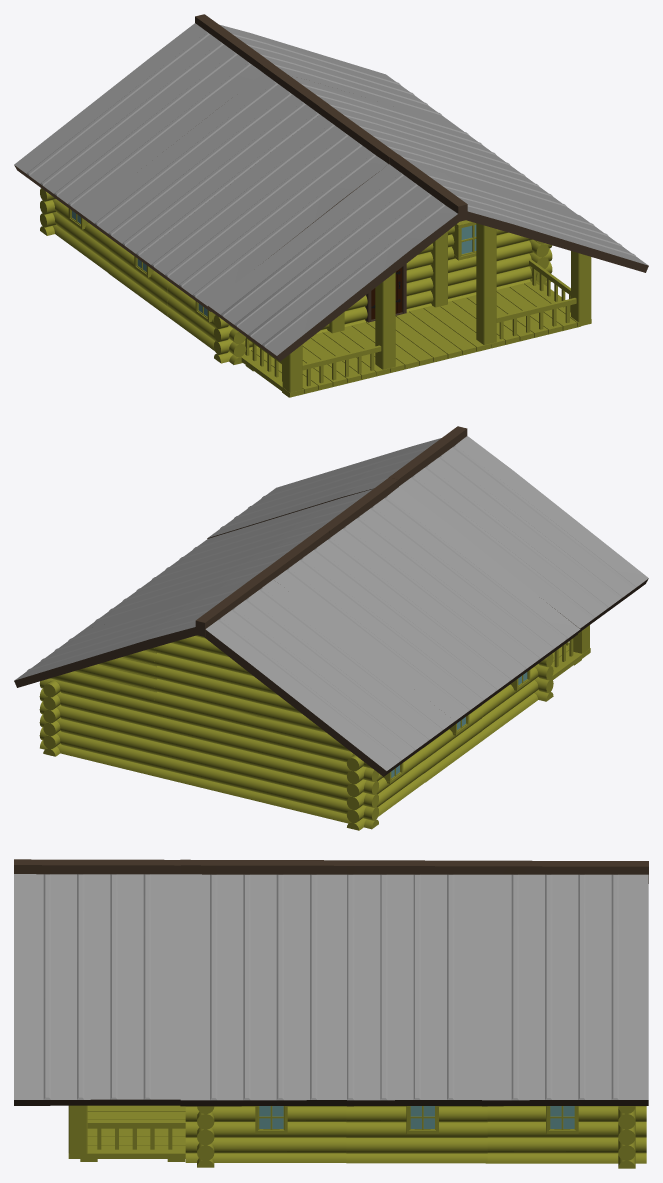
The model's file is Hunter Cabin.FBX.
The picture shows the model from 3 angles, top to bottom: view 1: azimuth 30°, elevation 25°; view 2: azimuth 150°, elevation 25°; view 3: azimuth 270°, elevation 25°; orthographic projection. The views are drawn at different scales.
Visible parts, largest first — view 1: Cabin_Back_face; view 2: Cabin_Back_face; view 3: Cabin_Back_face.
Boxes of the visible parts, bbox=[...] form: Cabin_Back_face: bbox=[14, 14, 648, 397]; Cabin_Back_face: bbox=[14, 426, 648, 830]; Cabin_Back_face: bbox=[14, 859, 648, 1168].
Bounding box in the file's own units: 1444 × 654 × 1761.
